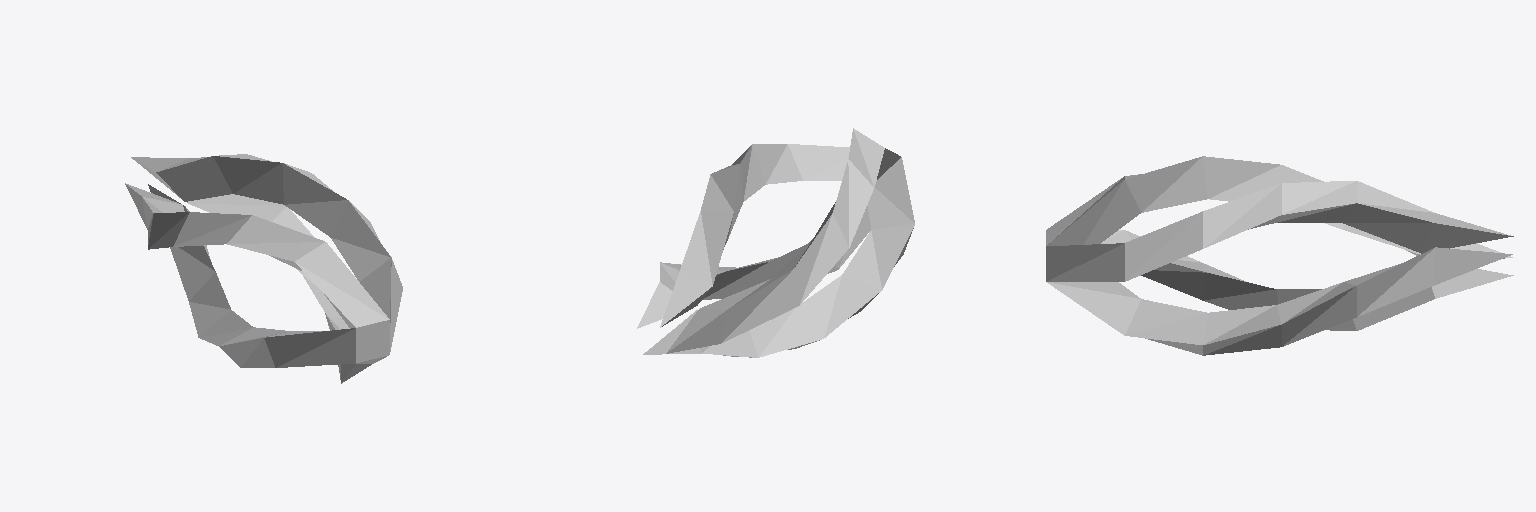
File: spell_projectile_ender_ccw.obj
The picture shows the model from 3 angles: view 1: azimuth 30°, elevation 25°; view 2: azimuth 150°, elevation 25°; view 3: azimuth 270°, elevation 25°; orthographic projection.
Visible parts, largest first — view 1: SPELL_PROJECTILE_AIR_COUNTERCLOCKWISE_Plane.007; view 2: SPELL_PROJECTILE_AIR_COUNTERCLOCKWISE_Plane.007; view 3: SPELL_PROJECTILE_AIR_COUNTERCLOCKWISE_Plane.007.
Boxes of the visible parts, box(x1,y1,x2,y2) form: SPELL_PROJECTILE_AIR_COUNTERCLOCKWISE_Plane.007: box(125, 154, 402, 383); SPELL_PROJECTILE_AIR_COUNTERCLOCKWISE_Plane.007: box(637, 128, 914, 357); SPELL_PROJECTILE_AIR_COUNTERCLOCKWISE_Plane.007: box(1046, 156, 1513, 355).
Bounding box in the file's own units: 0.3026 × 0.3026 × 0.745.